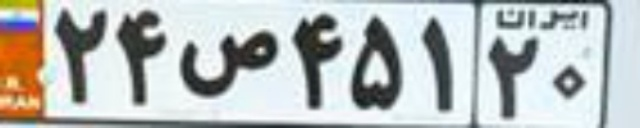0: (551, 63, 590, 100)
1: (418, 16, 454, 111)
2: (55, 5, 109, 106), (483, 35, 544, 119)
4: (291, 12, 343, 110), (116, 8, 167, 107)
5: (351, 14, 403, 110)
saat: (180, 29, 279, 97)
